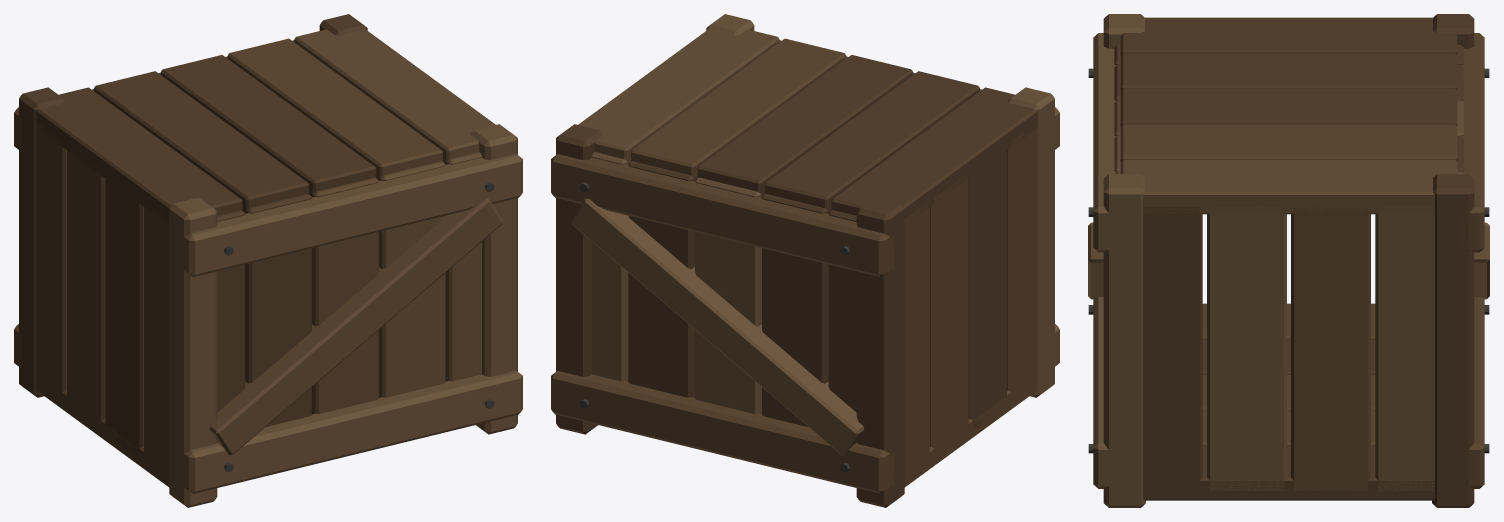
The model's file is crate_closed.glb.
The picture shows the model from 3 angles, left to right: view 1: azimuth 30°, elevation 25°; view 2: azimuth 150°, elevation 25°; view 3: azimuth 270°, elevation 25°; orthographic projection. The views are drawn at different scales.
Parts seen in each view (by area): view 1: crate_closed_Geometry; view 2: crate_closed_Geometry; view 3: crate_closed_Geometry.
Part boxes in pixels (box(x1,y1,x2,y2)): crate_closed_Geometry: box(14, 14, 522, 507); crate_closed_Geometry: box(551, 14, 1059, 507); crate_closed_Geometry: box(1088, 14, 1489, 507).
Size of the model in its own units: 1 by 0.84 by 0.955.
